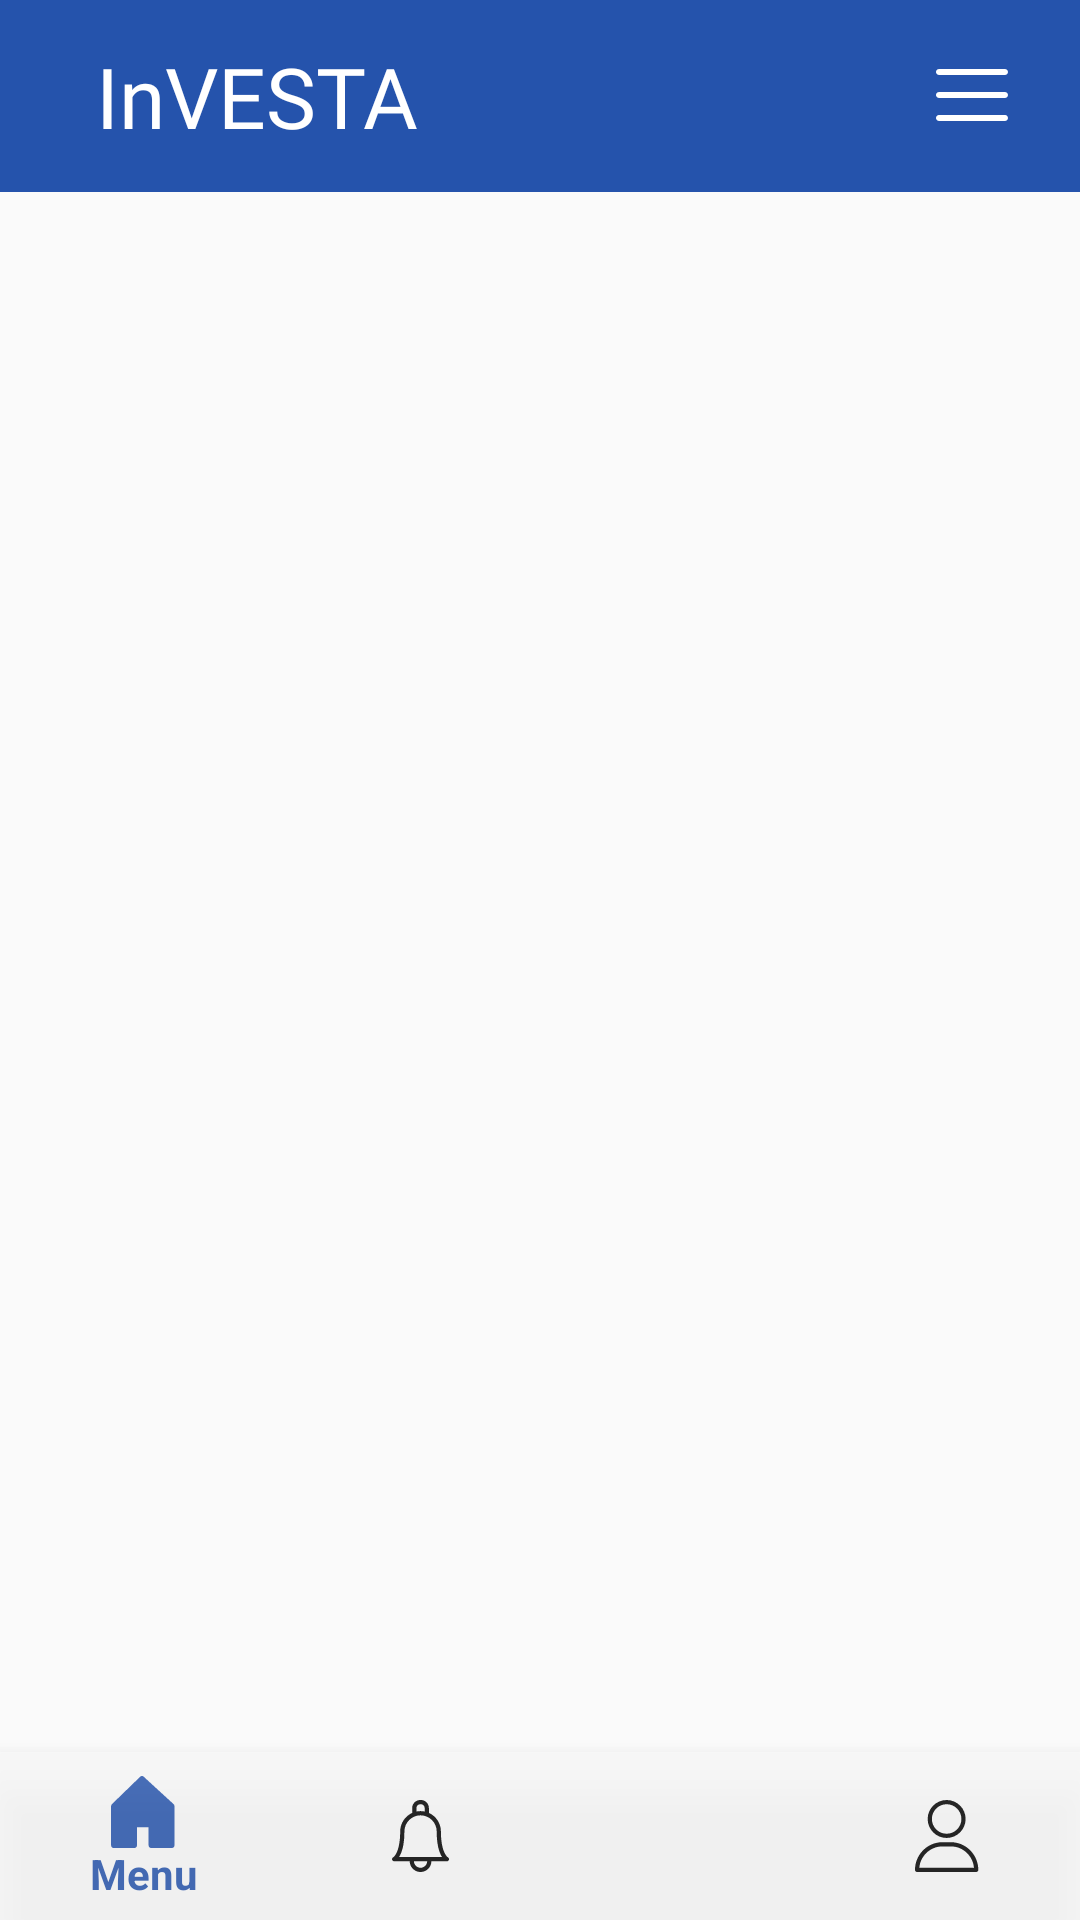

Screen size 1080w x 1920h. Icon name, then its box in pixels as [x1=x1, y1=y1, x2=x2, y2=y2]:
menu: [x1=936, y1=69, x2=1008, y2=121]
